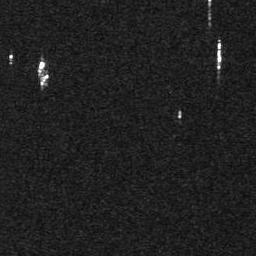ship: (40, 73, 50, 86), (37, 60, 46, 74), (215, 50, 224, 64)
